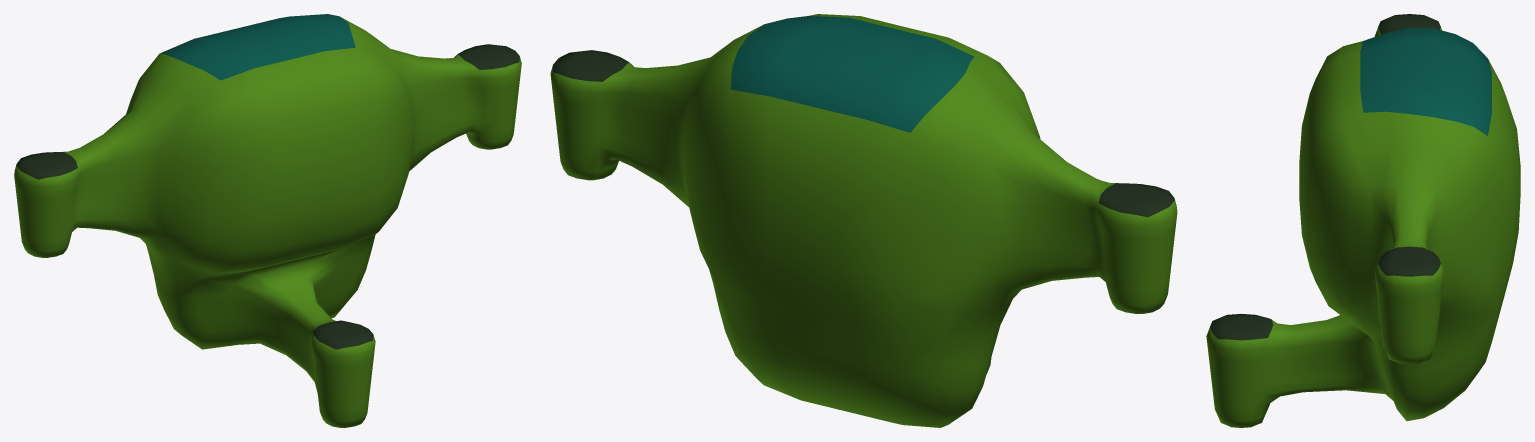
The model's file is alien3b.FBX.
3 views of the same model, side by side, from view 1: azimuth 30°, elevation 25°; view 2: azimuth 150°, elevation 25°; view 3: azimuth 270°, elevation 25° (orthographic). The views are drawn at different scales.
Parts seen in each view (by area): view 1: alien3; view 2: alien3; view 3: alien3.
Part boxes in pixels (bbox=[...]): alien3: bbox=[14, 14, 521, 427]; alien3: bbox=[550, 14, 1177, 427]; alien3: bbox=[1206, 14, 1520, 427].
Size of the model in its own units: 87.91 by 43.93 by 55.19.
Materials: 3 (3 with a texture image).
